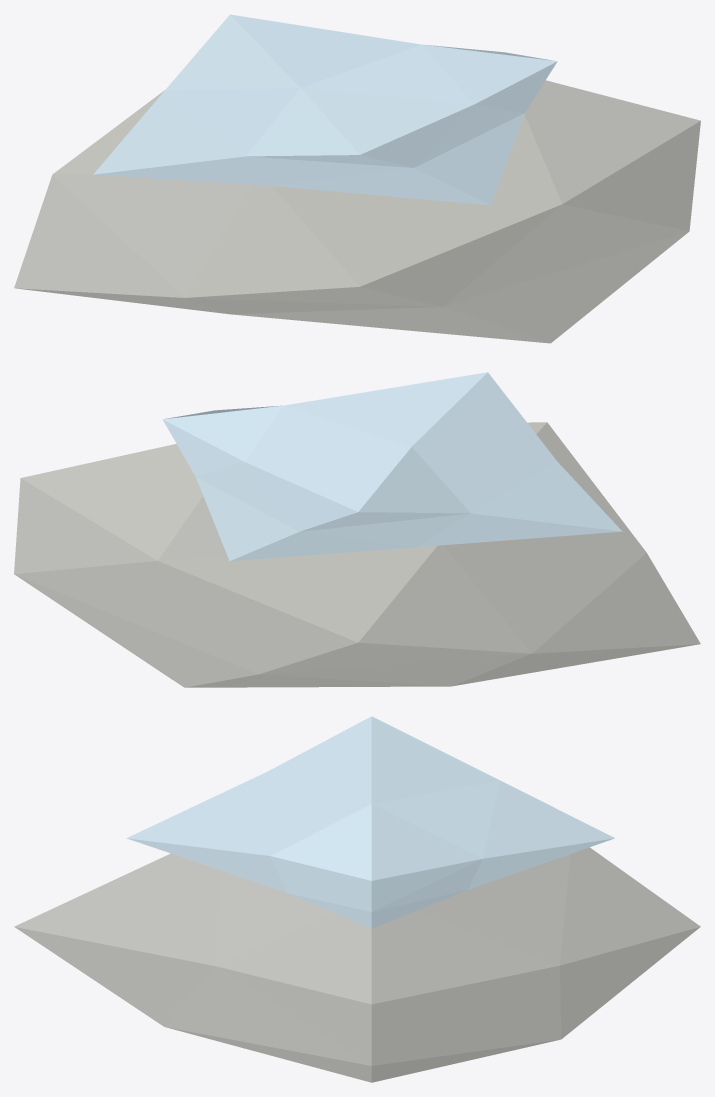
Rendered from puddle_stone_v24.glb.
3 views of the same model, one above another, from view 1: azimuth 30°, elevation 25°; view 2: azimuth 150°, elevation 25°; view 3: azimuth 270°, elevation 25° (orthographic). The views are drawn at different scales.
Parts seen in each view (by area): view 1: lod0; view 2: lod0; view 3: lod0.
Boxes of the visible parts, left/top/right/bottom form: lod0: left=14, top=14, right=700, bottom=343; lod0: left=14, top=372, right=700, bottom=687; lod0: left=14, top=716, right=700, bottom=1082.
Size of what is drawn, in the model's own units: 0.5337 by 0.163 by 0.4929.
